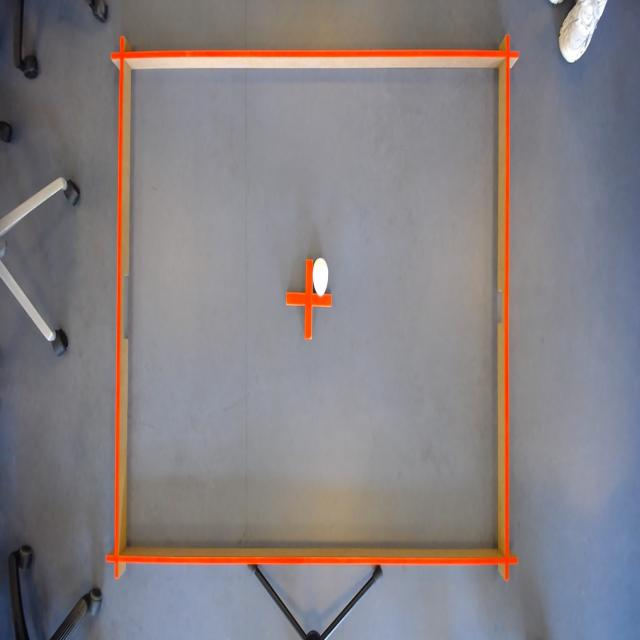cross: (285, 255, 333, 342)
egg: (312, 256, 329, 300)
